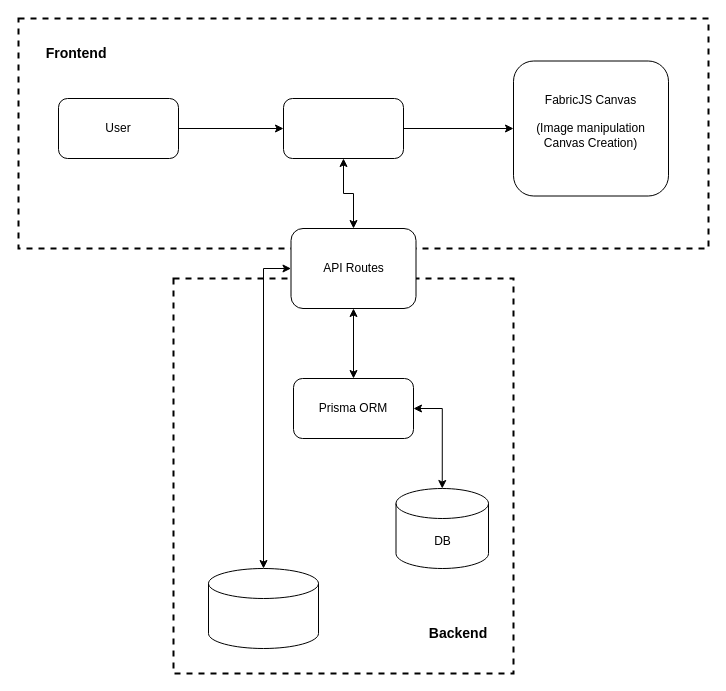
Some shapes in this 726 by 691 pixel diagram are drawn without their labels. The centre of each missing label's shape, as x and y in pixels:
/public/uploads: point 263,608
React UI: point 343,128
